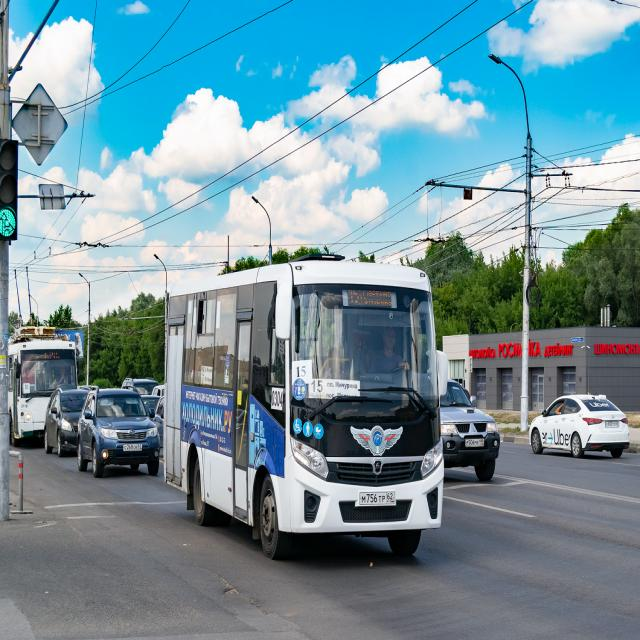number-of-bus: (311, 381, 325, 395)
